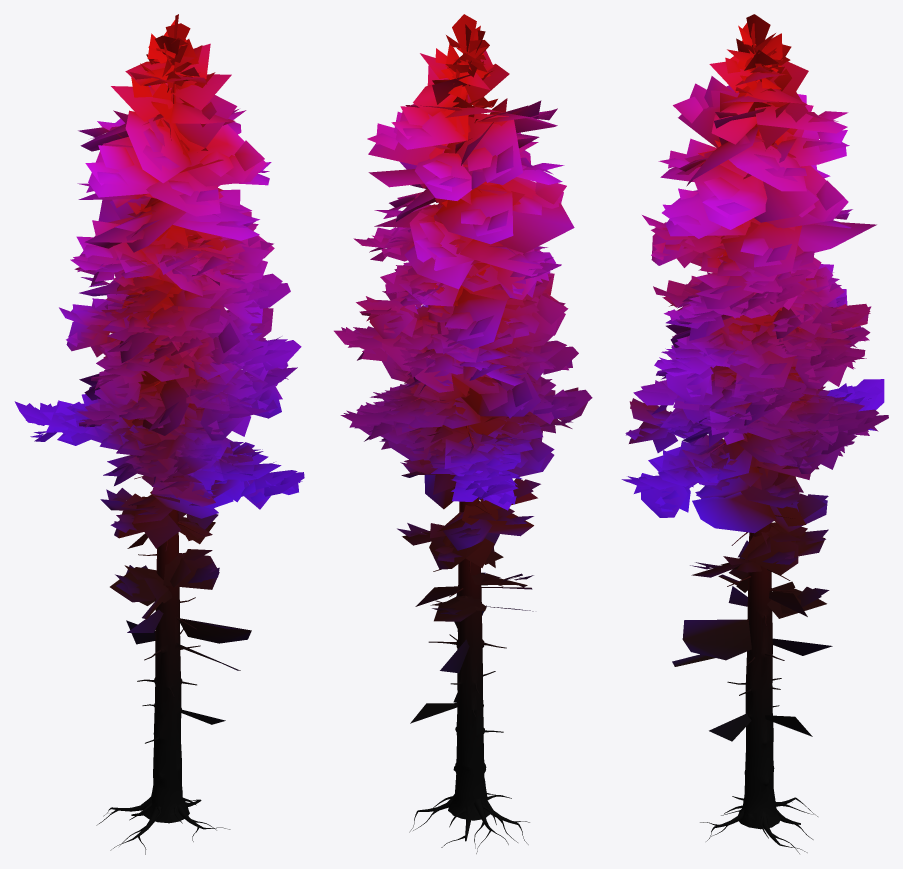
The model's file is Fir03.fbx.
The picture shows the model from 3 angles, left to right: view 1: azimuth 30°, elevation 25°; view 2: azimuth 150°, elevation 25°; view 3: azimuth 270°, elevation 25°; orthographic projection. The views are drawn at different scales.
Parts seen in each view (by area): view 1: Fir03_LOD0; view 2: Fir03_LOD0; view 3: Fir03_LOD0.
Boxes of the visible parts, bbox=[...] form: Fir03_LOD0: bbox=[14, 14, 304, 854]; Fir03_LOD0: bbox=[334, 14, 592, 853]; Fir03_LOD0: bbox=[621, 14, 888, 853].
Size of what is drawn, in the model's own units: 531 by 1858 by 542.
